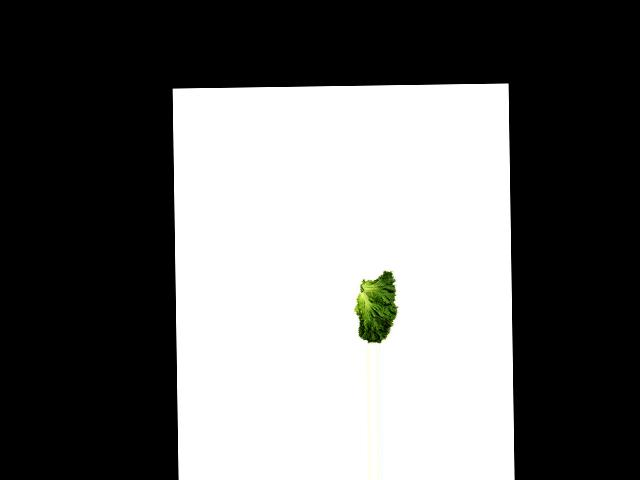lettuce: (351, 271, 403, 344)
